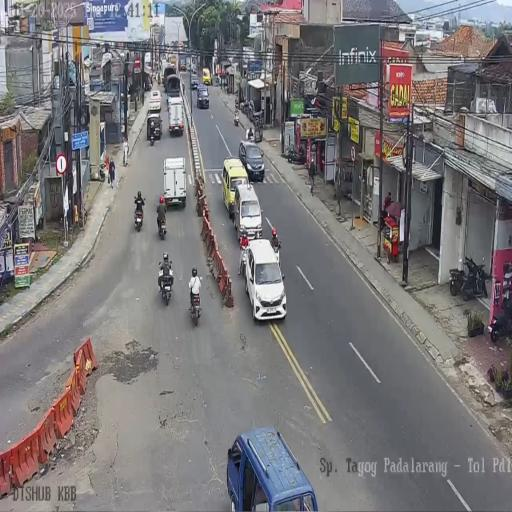3: (162, 156, 187, 212), (167, 96, 184, 137), (161, 61, 175, 91), (178, 54, 186, 72)
car: (225, 425, 317, 508), (242, 239, 286, 323), (222, 156, 249, 220), (196, 84, 210, 109), (148, 88, 162, 112), (202, 68, 211, 86), (190, 74, 199, 90), (170, 54, 176, 67), (190, 64, 196, 74), (186, 63, 191, 72)
truck: (448, 251, 488, 301), (489, 289, 512, 343), (189, 281, 202, 325), (160, 267, 174, 306), (285, 144, 306, 164), (134, 198, 145, 231), (156, 208, 167, 239), (240, 99, 251, 116), (157, 72, 160, 84)
